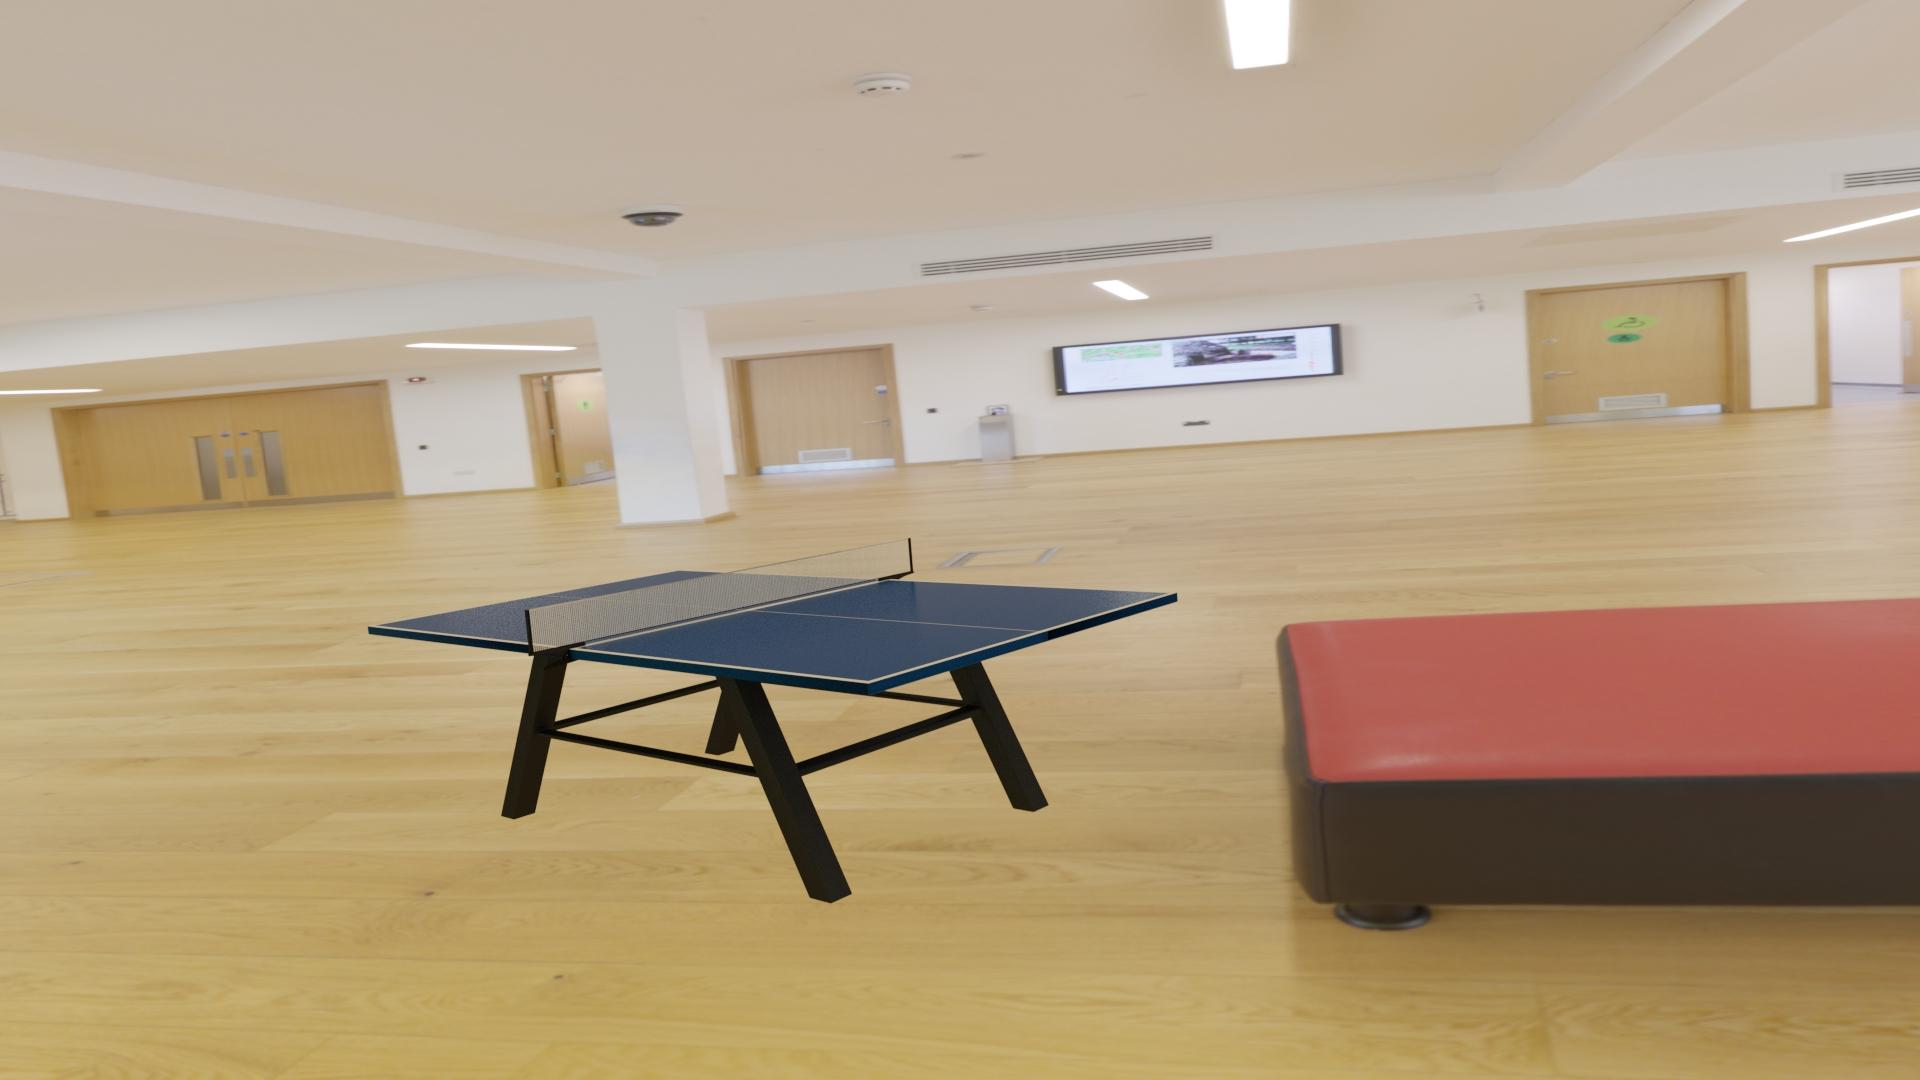table: (375, 571, 1170, 682)
